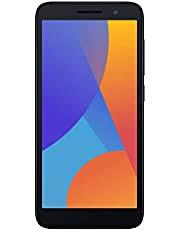Smartphone: (34, 6, 144, 228)
